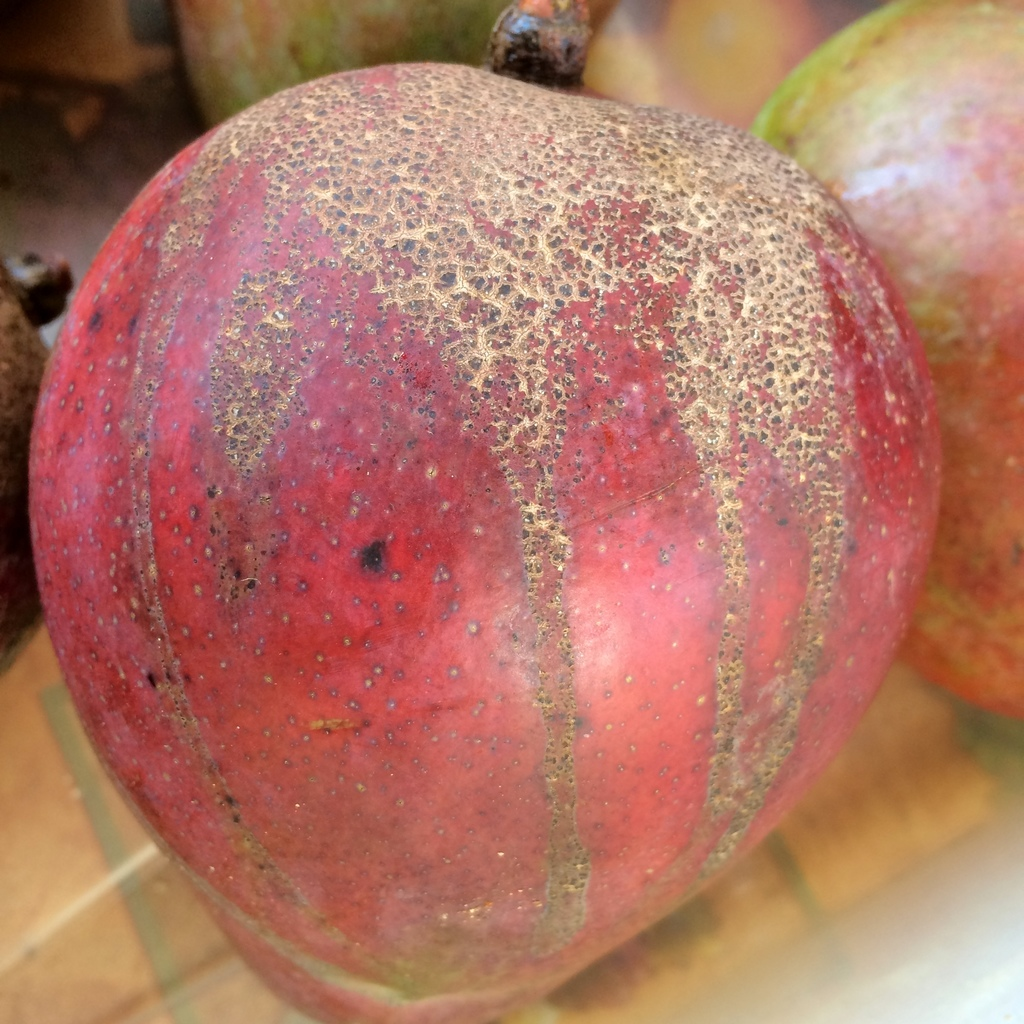Apple: (43, 28, 977, 1014), (742, 0, 1023, 724), (170, 0, 861, 129)
